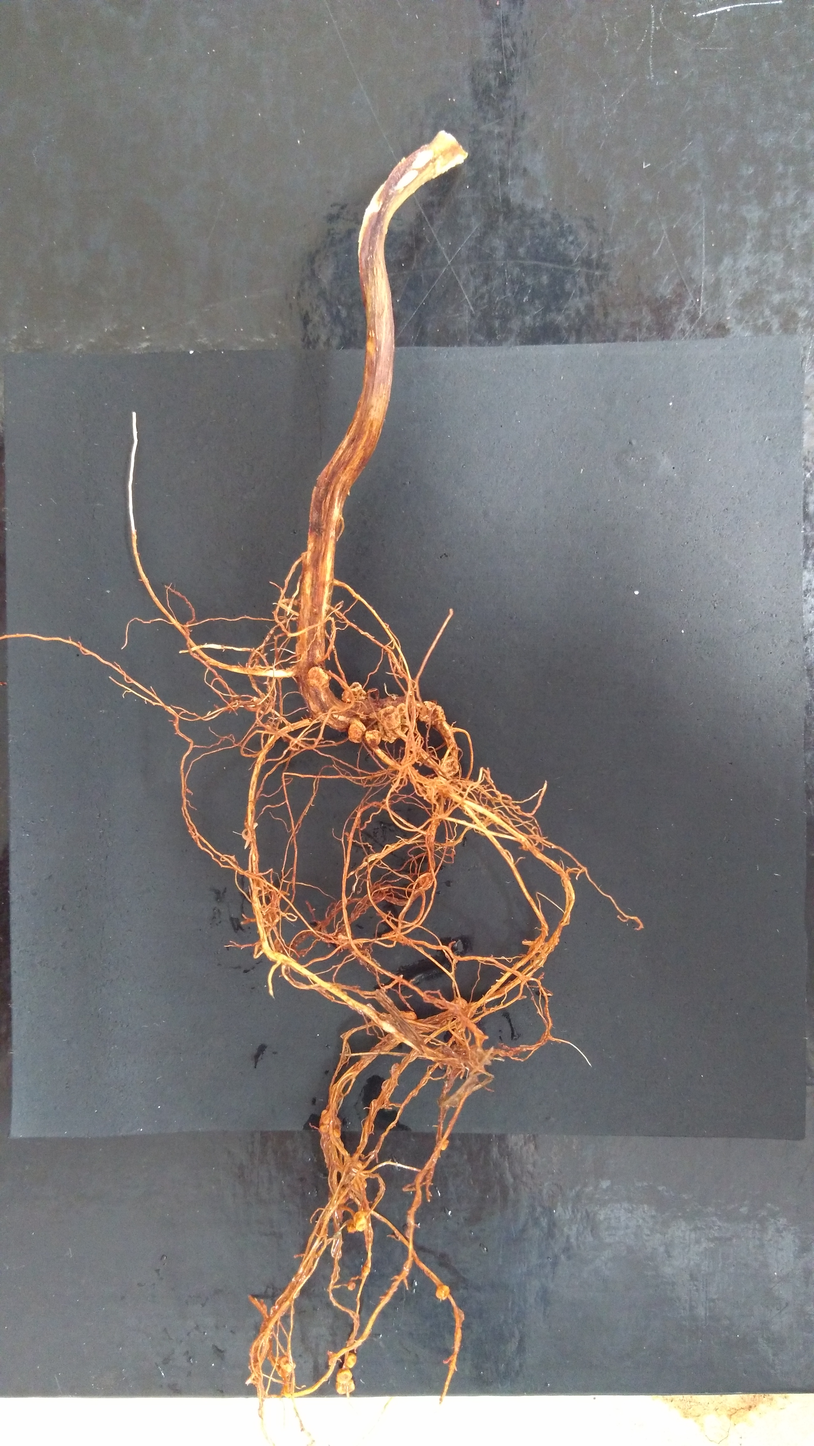nodule: (377, 702, 411, 744), (418, 700, 447, 726), (340, 681, 368, 705), (306, 666, 330, 688), (347, 720, 364, 744), (440, 755, 459, 776), (353, 1209, 368, 1232), (335, 1378, 355, 1395), (364, 729, 382, 747), (434, 1284, 451, 1302), (279, 1355, 296, 1373), (275, 1357, 289, 1377), (336, 1369, 353, 1384), (449, 997, 468, 1010), (352, 1176, 367, 1192), (345, 1351, 357, 1369), (400, 1010, 418, 1021), (455, 1305, 465, 1323), (350, 1160, 363, 1173), (320, 1109, 331, 1124), (346, 1219, 357, 1234), (440, 1139, 450, 1151), (319, 1124, 330, 1134), (361, 1265, 371, 1274), (347, 1281, 356, 1291), (333, 1128, 341, 1138)
